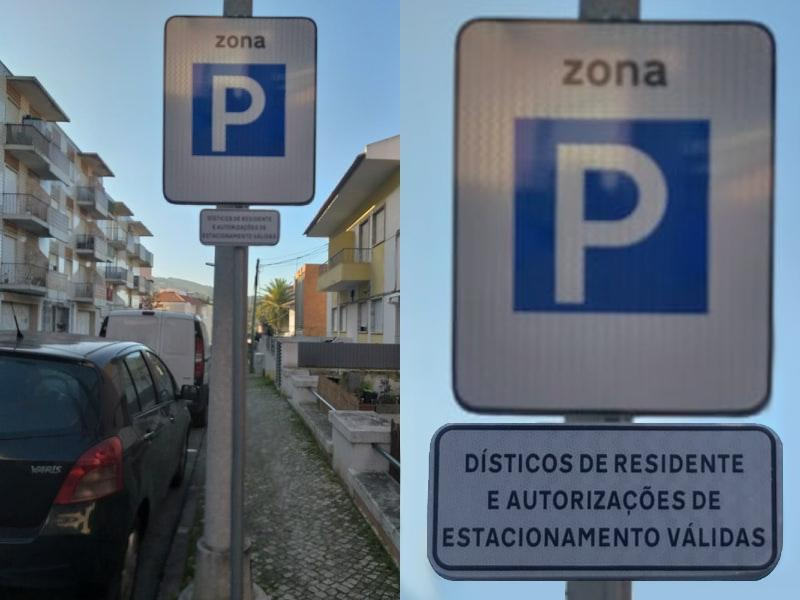zona de estacionamento autorizado: (450, 15, 774, 417), (150, 0, 328, 205)
